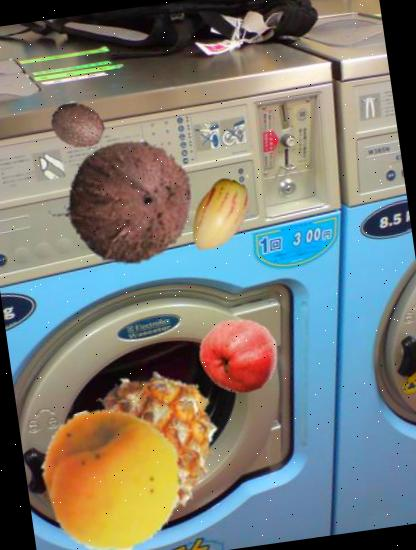Cocos: (56, 126, 204, 274), (46, 94, 110, 158)
Peach: (31, 395, 197, 550)
Pear: (194, 310, 284, 400)
Pepino: (176, 173, 263, 260)
Pineapple: (76, 363, 235, 522)
